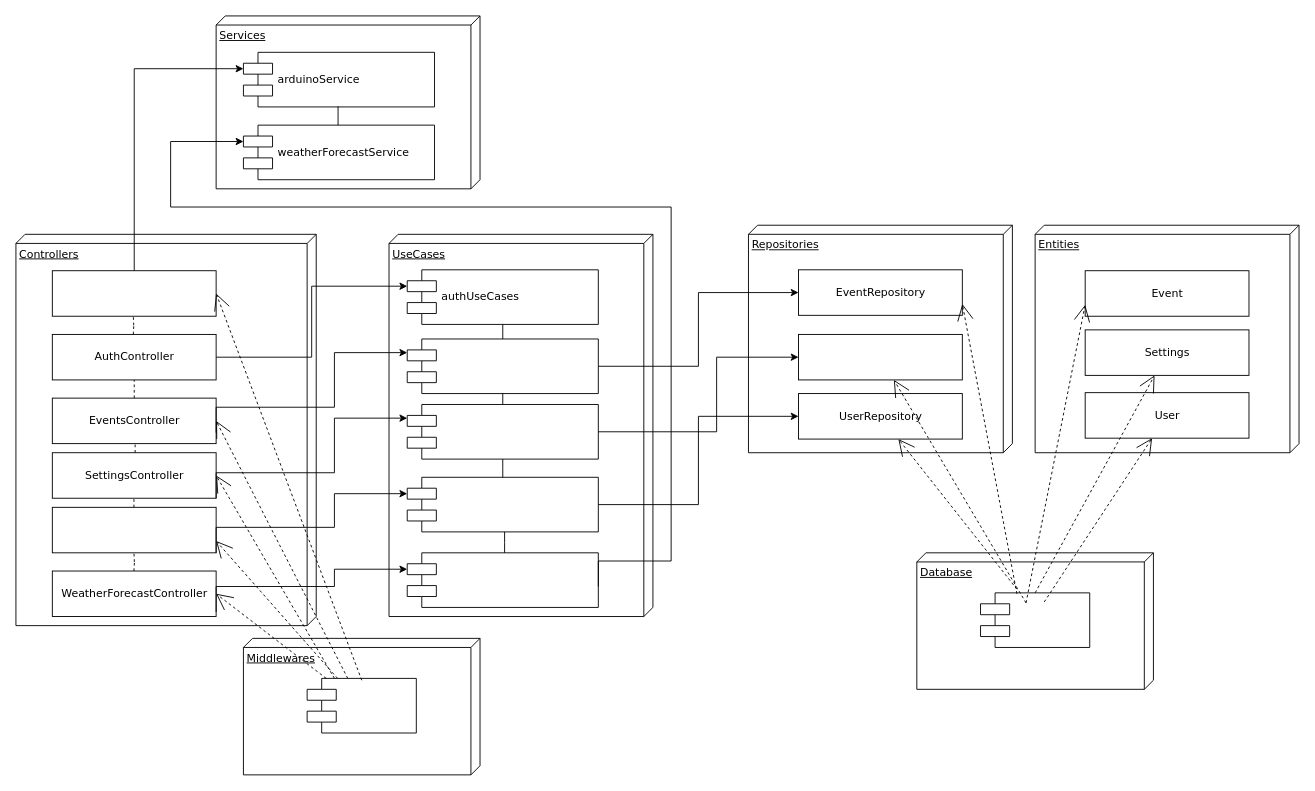
Some shapes in this 1315 by 791 pixel diagram are drawn without their labels. The centre of each missing label's shape, as x and y in pixels:
"ArduinoController" goes at point (133, 293).
"Auth" goes at point (361, 705).
"eventsUseCase" goes at point (502, 366).
"Sequelize" goes at point (1035, 619).
"SettingsRepository" goes at point (880, 357).
"settingsUseCase" goes at point (502, 431).
"UsersController" goes at point (133, 529).
"usersUseCase" goes at point (502, 504).
"weatherForecastUseCase" goes at point (502, 579).
